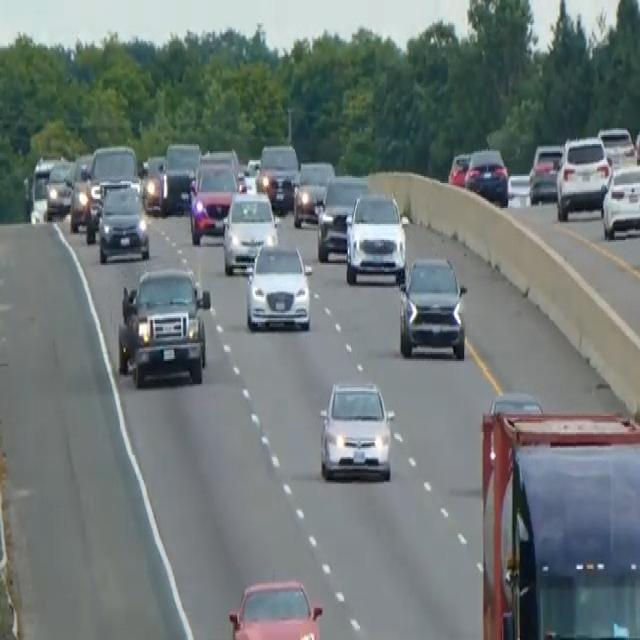car: (318, 377, 394, 482), (397, 253, 467, 359), (244, 236, 313, 334), (227, 576, 323, 638), (344, 190, 407, 284), (84, 142, 139, 240), (221, 186, 279, 274), (555, 134, 611, 220), (316, 172, 369, 262), (96, 178, 150, 263), (187, 158, 238, 244), (256, 140, 299, 212), (601, 160, 639, 240), (292, 158, 335, 228), (159, 140, 200, 213), (464, 146, 509, 206), (24, 153, 59, 222), (528, 143, 563, 205), (68, 153, 92, 231), (44, 158, 73, 219), (597, 124, 635, 166), (141, 153, 165, 213), (199, 146, 239, 181), (447, 149, 471, 187), (238, 155, 260, 192), (634, 125, 639, 167)
jeep: (116, 263, 211, 388)
lorry: (478, 393, 639, 638)
